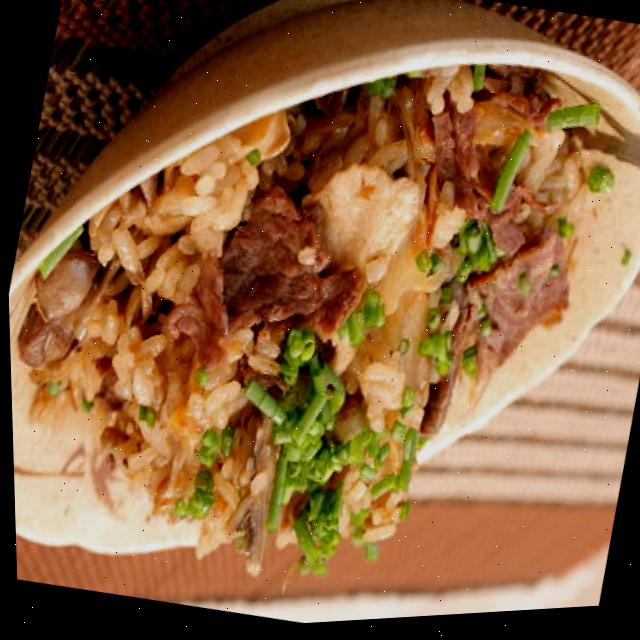米饭主食: (1, 30, 640, 640)
